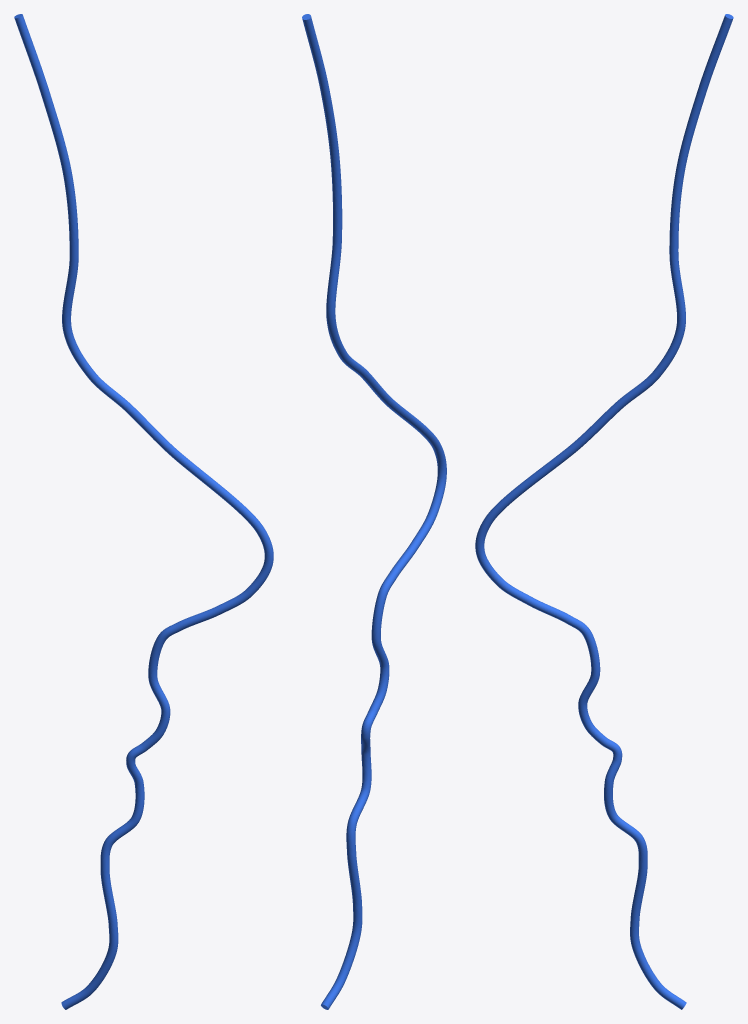
The model's file is faces11 - lineprofile.glb.
3 renders of one model, left to right at view 1: azimuth 90°, elevation 25°; view 2: azimuth 150°, elevation 25°; view 3: azimuth 270°, elevation 25°, orthographic. The views are drawn at different scales.
Visible parts, largest first — view 1: Tube; view 2: Tube; view 3: Tube.
Part boxes in pixels (box(x1,y1,x2,y2)): Tube: box(14, 14, 273, 1009); Tube: box(302, 14, 446, 1009); Tube: box(475, 14, 733, 1009).
Bounding box in the file's own units: 0.0297 × 1.34 × 0.3156.
